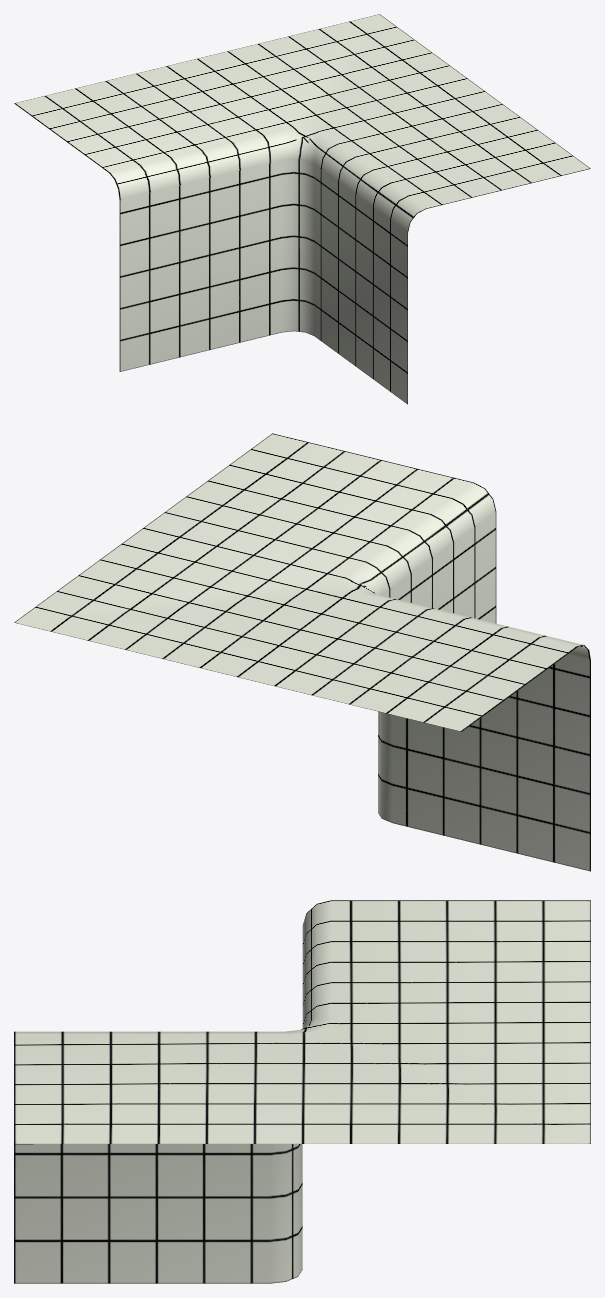
File: Pool_cornerEdge01.fbx
3 views of the same model, one above another, from view 1: azimuth 30°, elevation 25°; view 2: azimuth 150°, elevation 25°; view 3: azimuth 270°, elevation 25° (orthographic). The views are drawn at different scales.
Parts seen in each view (by area): view 1: Pool_cornerEdge01; view 2: Pool_cornerEdge01; view 3: Pool_cornerEdge01.
Part boxes in pixels (bbox=[...]): Pool_cornerEdge01: bbox=[14, 14, 590, 404]; Pool_cornerEdge01: bbox=[14, 433, 590, 871]; Pool_cornerEdge01: bbox=[14, 900, 590, 1283].
Size of the model in its own units: 200 by 100 by 200.
